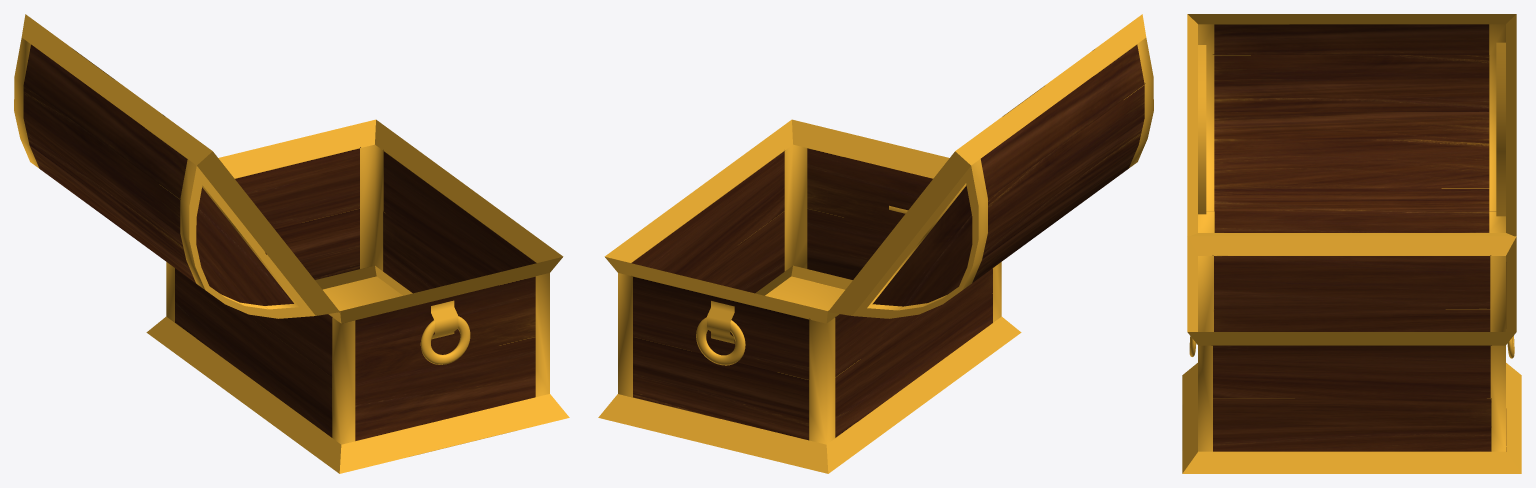
The model's file is Chest.fbx.
3 renders of one model, left to right at view 1: azimuth 30°, elevation 25°; view 2: azimuth 150°, elevation 25°; view 3: azimuth 270°, elevation 25°, orthographic. The views are drawn at different scales.
Visible parts, largest first — view 1: Plane, Plane.001; view 2: Plane, Plane.001; view 3: Plane, Plane.001.
Boxes of the visible parts, x1=… form: Plane: x1=146, y1=119, x2=569, y2=473; Plane.001: x1=14, y1=14, x2=339, y2=318; Plane: x1=598, y1=119, x2=1021, y2=473; Plane.001: x1=828, y1=14, x2=1153, y2=318; Plane: x1=1182, y1=236, x2=1521, y2=473; Plane.001: x1=1187, y1=14, x2=1516, y2=236.
Size of the model in its own units: 4.71 by 4.25 by 4.25.
1 material, 1 textured.
